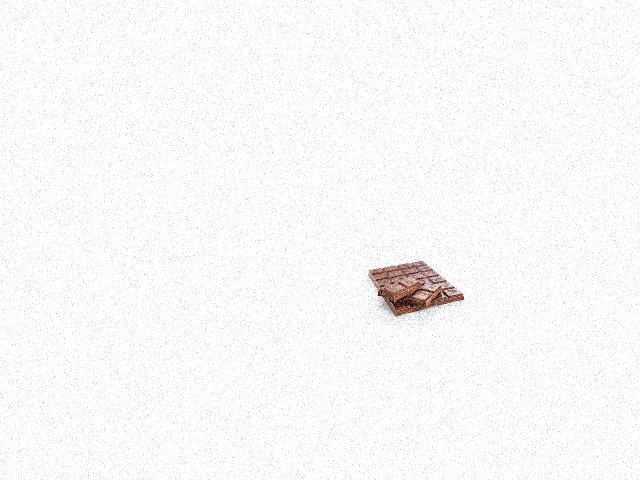chocolate: (367, 256, 465, 320)
